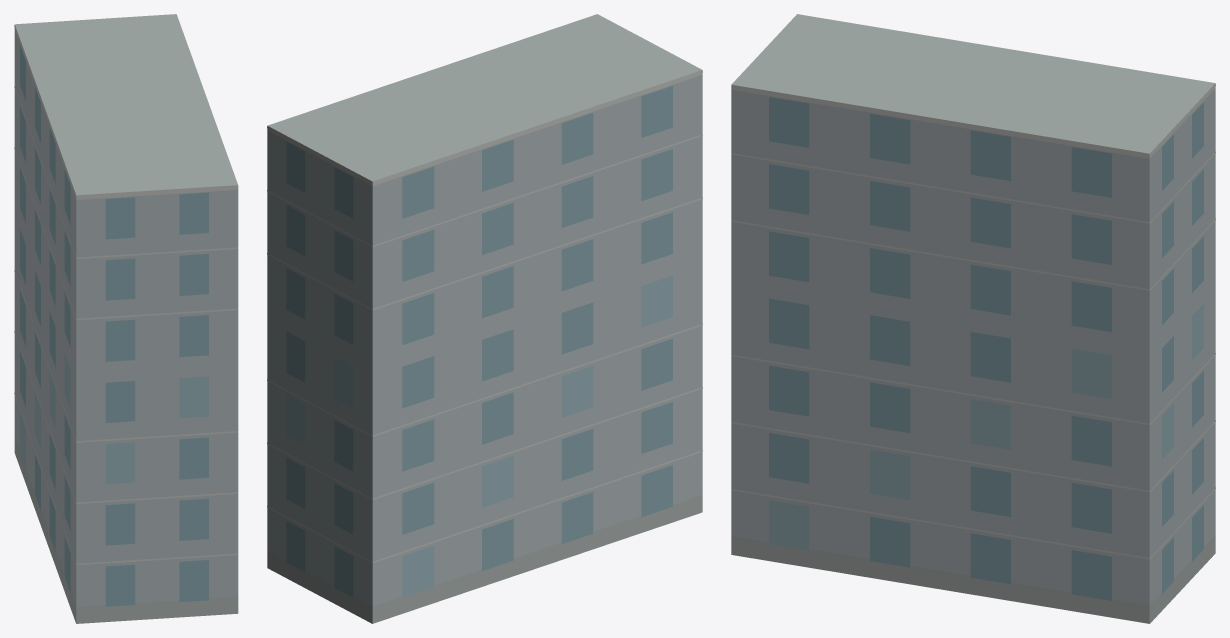
The model's file is survey-upis-32664747.glb.
3 views of the same model, side by side, from view 1: azimuth 30°, elevation 25°; view 2: azimuth 150°, elevation 25°; view 3: azimuth 270°, elevation 25° (orthographic). The views are drawn at different scales.
Parts seen in each view (by area): view 1: survey-upis-32664747.tmp; view 2: survey-upis-32664747.tmp; view 3: survey-upis-32664747.tmp.
Part boxes in pixels (left/top/right/bottom): survey-upis-32664747.tmp: left=14, top=14, right=238, bottom=623; survey-upis-32664747.tmp: left=267, top=14, right=702, bottom=623; survey-upis-32664747.tmp: left=731, top=14, right=1215, bottom=623.
Size of the model in its own units: 14.56 by 22.8 by 21.31.
